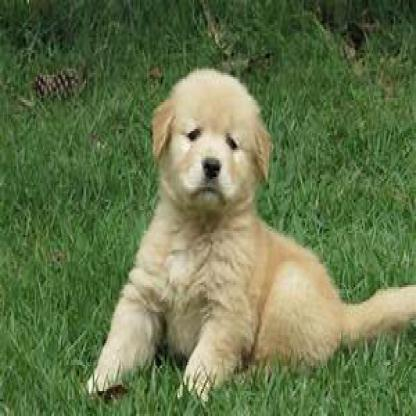dog: (89, 62, 413, 408)
